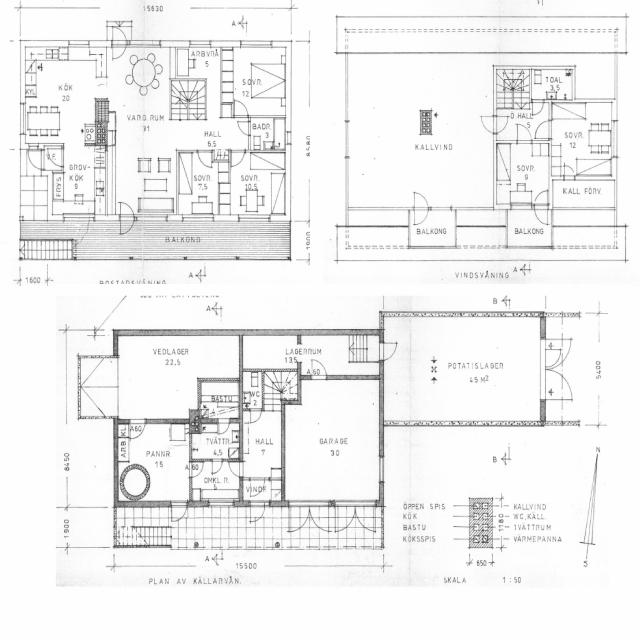door: (541, 370, 571, 401), (541, 340, 571, 370), (334, 501, 354, 531), (355, 501, 375, 531), (289, 501, 309, 531), (309, 501, 329, 531), (171, 501, 187, 527), (250, 501, 265, 525), (26, 150, 44, 169), (380, 342, 398, 360), (131, 419, 145, 442), (120, 214, 134, 237), (120, 198, 134, 221), (312, 358, 326, 380), (534, 121, 552, 138), (479, 116, 497, 133), (493, 116, 511, 133), (113, 24, 126, 47), (113, 40, 126, 63), (47, 149, 64, 166), (250, 478, 264, 498), (414, 207, 428, 227), (414, 190, 428, 210), (198, 150, 212, 169), (517, 124, 531, 143), (535, 203, 547, 225), (535, 188, 547, 209), (189, 462, 205, 477), (235, 100, 248, 118), (232, 150, 244, 168), (228, 462, 243, 476), (218, 419, 230, 436), (564, 163, 575, 180), (237, 122, 250, 136), (251, 408, 261, 424), (533, 99, 543, 115), (212, 459, 222, 473)
